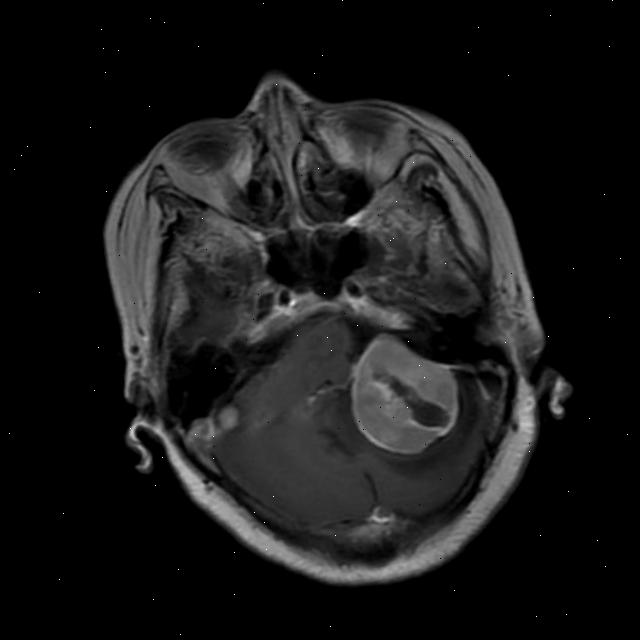Meningioma: (331, 315, 476, 467)
